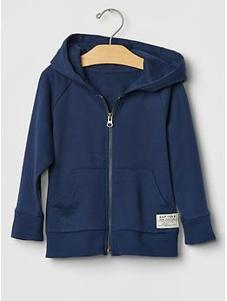C_jacket: (7, 29, 218, 258)
